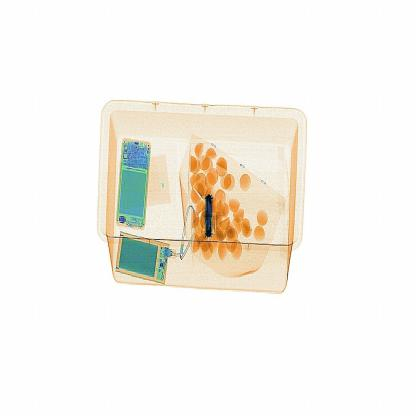scissors: (195, 186, 222, 244)
